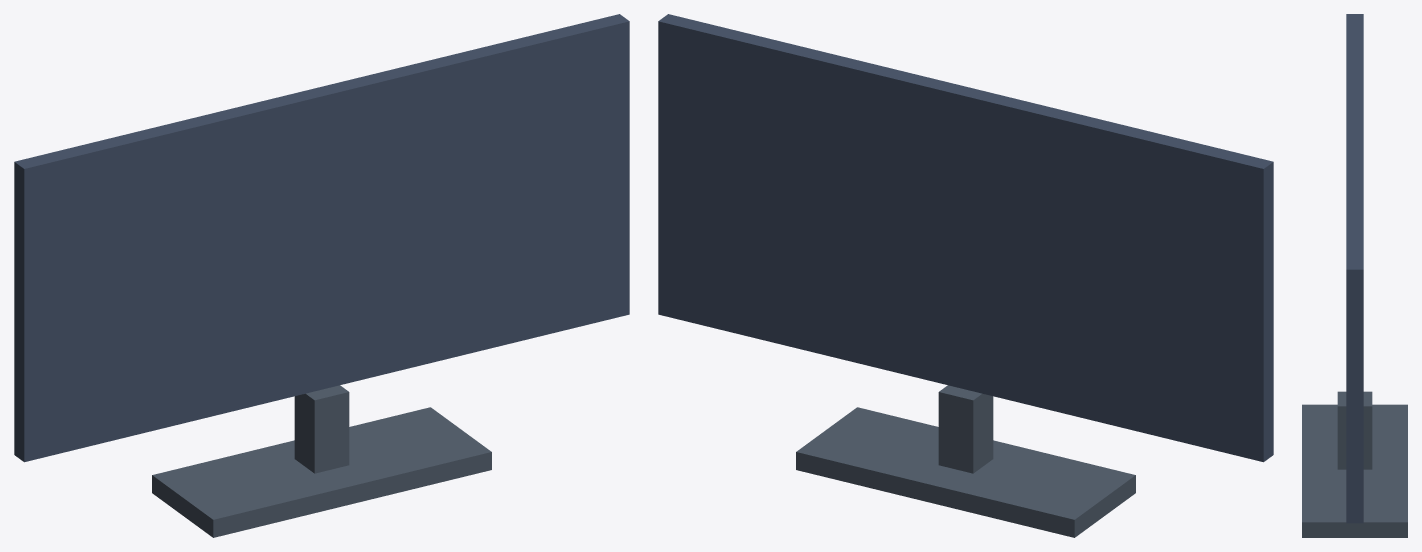
3 views of the same model, side by side, from view 1: azimuth 30°, elevation 25°; view 2: azimuth 150°, elevation 25°; view 3: azimuth 270°, elevation 25° (orthographic). The views are drawn at different scales.
Bounding box in the file's own units: 1.4 × 0.862 × 0.245.
